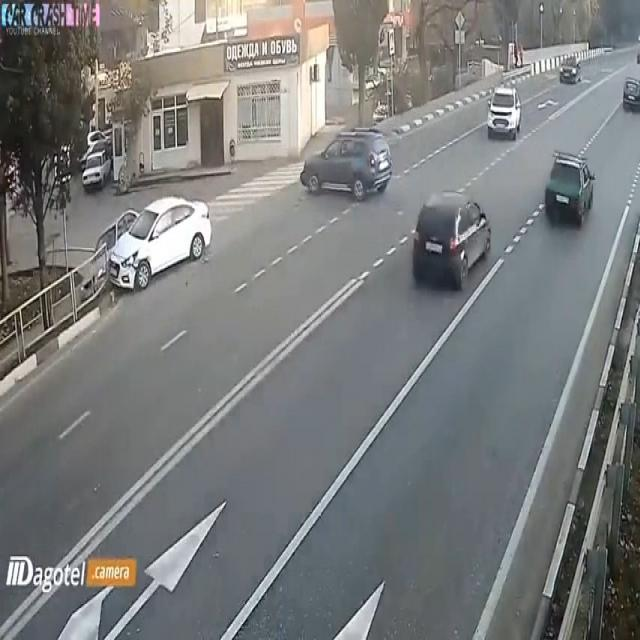Accident: (103, 197, 204, 315)
